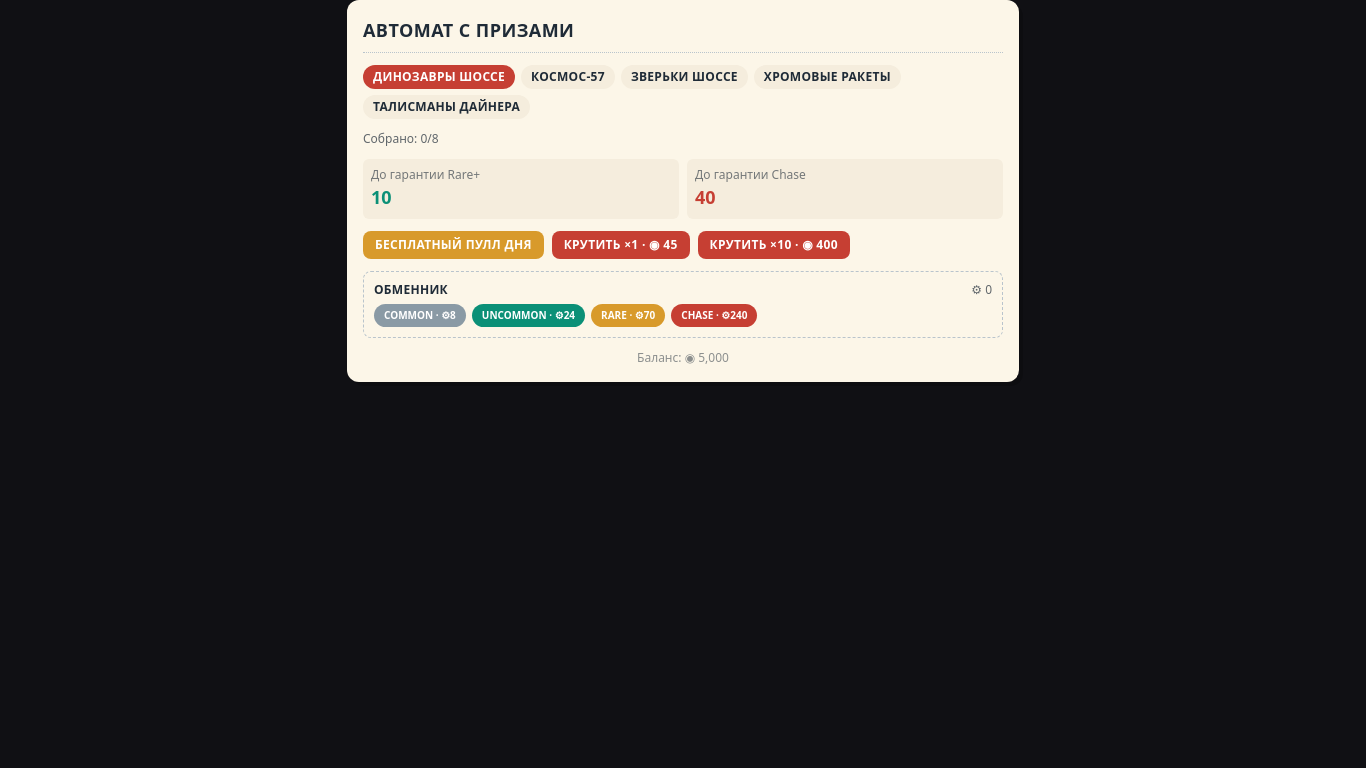
Test case: PrizeMachine (§3.3) › платный пулл ×1 идёт через dev-эмуляцию, дубль пополняет ⚙ scrap
Click the button with test id "prize-pull-1" at (621, 245), box x1=552 y1=231 x2=690 y2=259
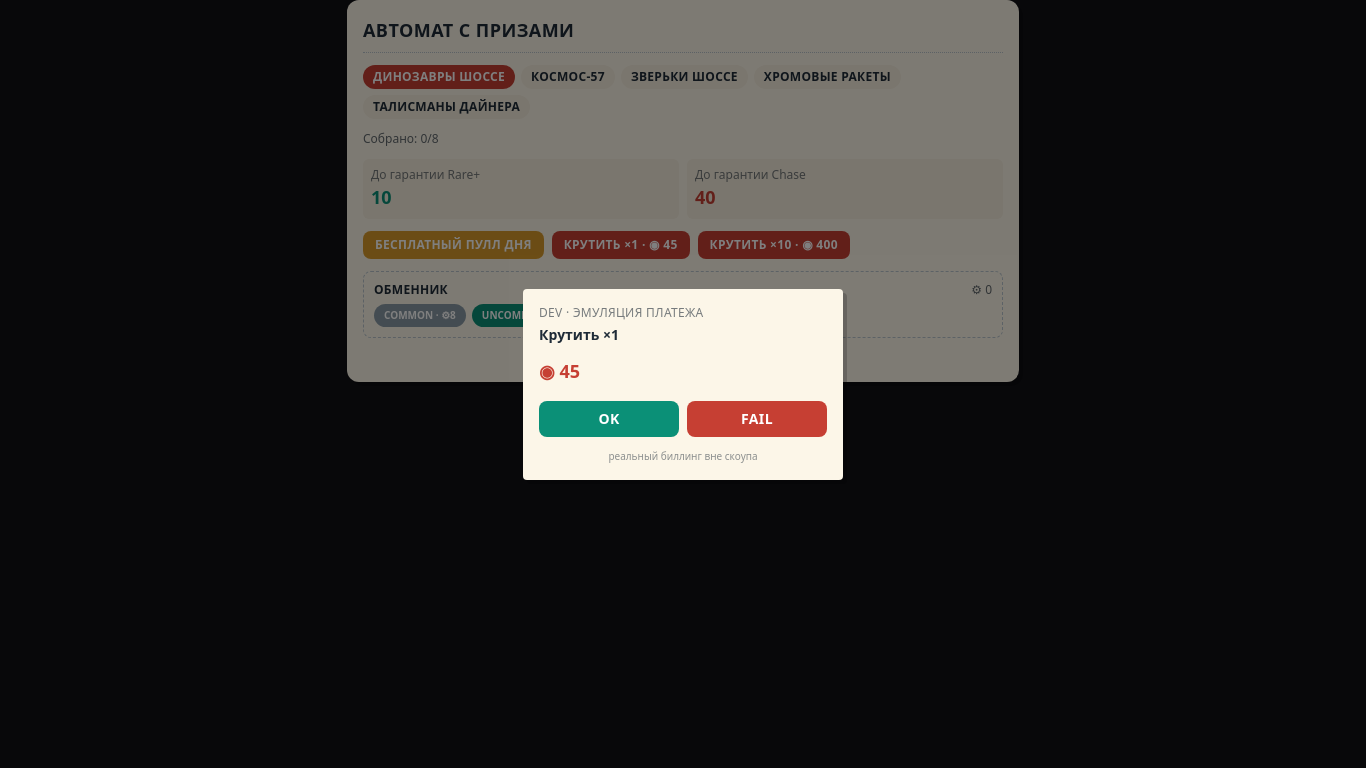
Expected: the element with test id "dev-payment-dialog" is shown
Click the button with test id "dev-payment-ok" at (609, 418), box x1=539 y1=400 x2=679 y2=436
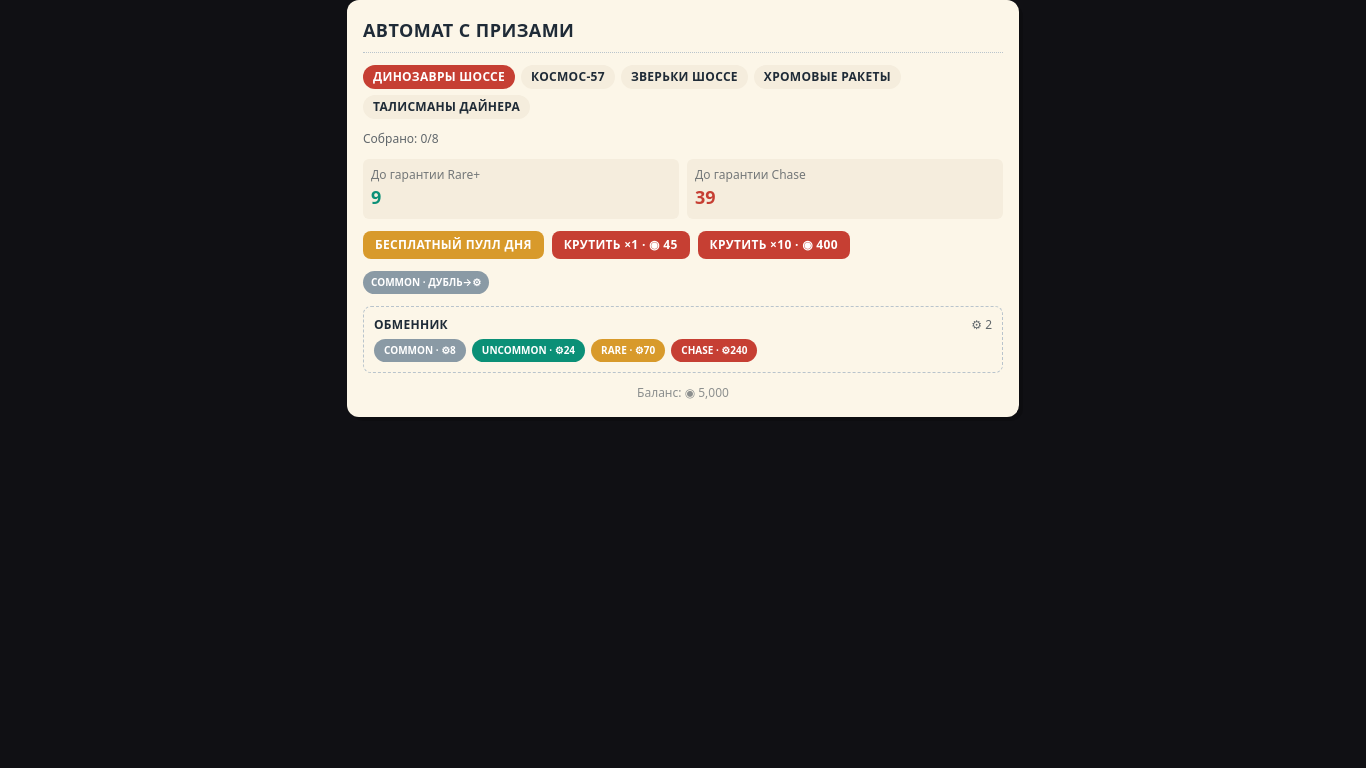
Expected: the text with test id "prize-scrap-balance" reads "⚙ 2", x1=971 y1=317 x2=992 y2=333
Expected: the text with test id "prize-pity-rare" reads "9", x1=371 y1=185 x2=381 y2=209
